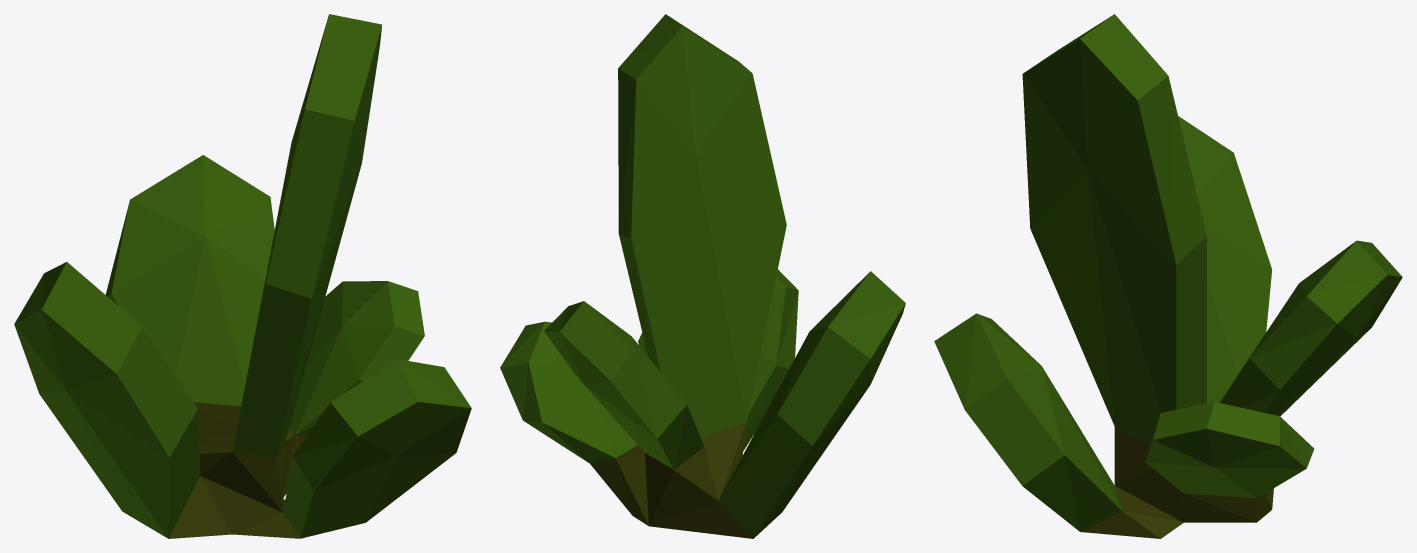
File: obj_kharidian_cactus_healthy_0.obj
The picture shows the model from 3 angles, left to right: view 1: azimuth 30°, elevation 25°; view 2: azimuth 150°, elevation 25°; view 3: azimuth 270°, elevation 25°; orthographic projection. The views are drawn at different scales.
Bounding box in the file's own units: 0.9688 × 1.16 × 0.9531.
